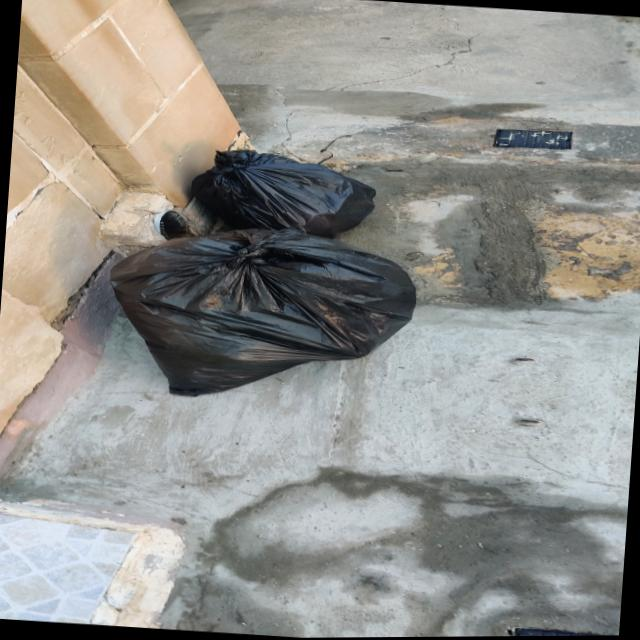Mixed Waste -Black Bags-: (104, 150, 423, 398)
